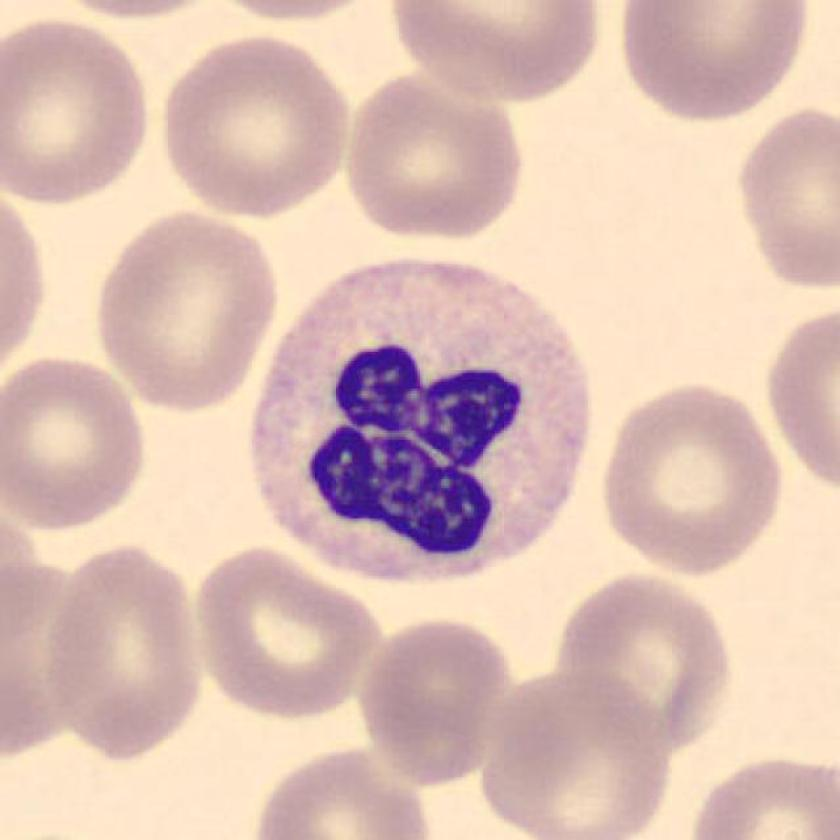neutrophil: (253, 260, 588, 575)
